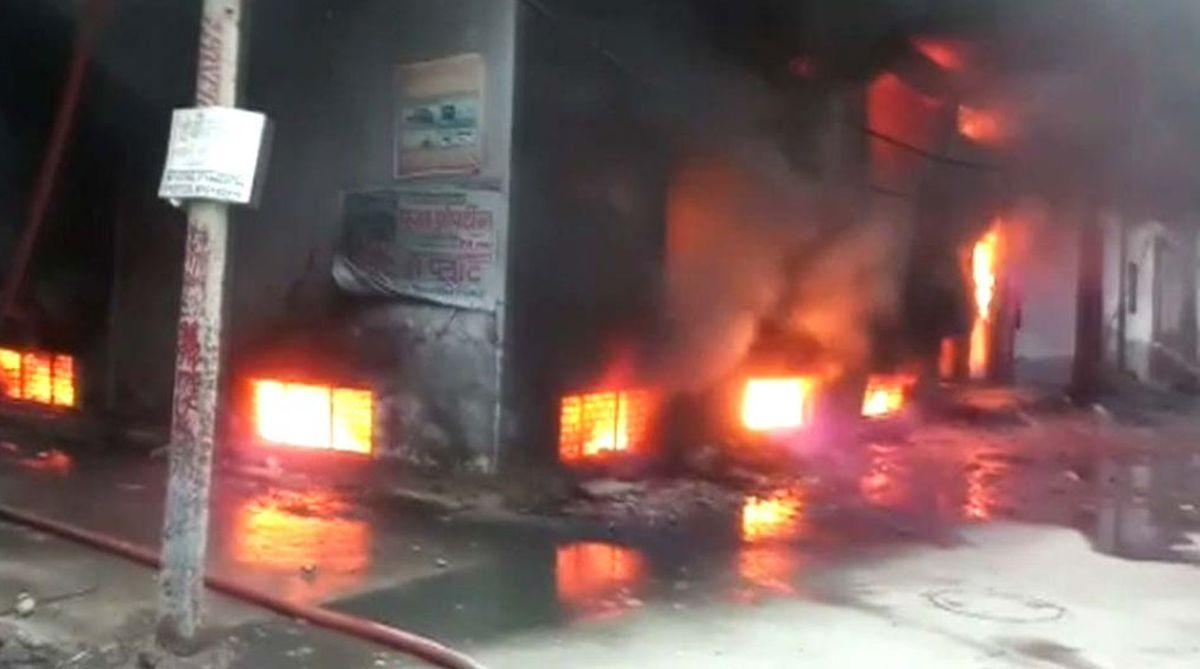Fire: (238, 364, 392, 472), (539, 384, 666, 469), (7, 333, 92, 418), (734, 364, 826, 437), (967, 220, 1008, 324), (845, 367, 922, 421)
